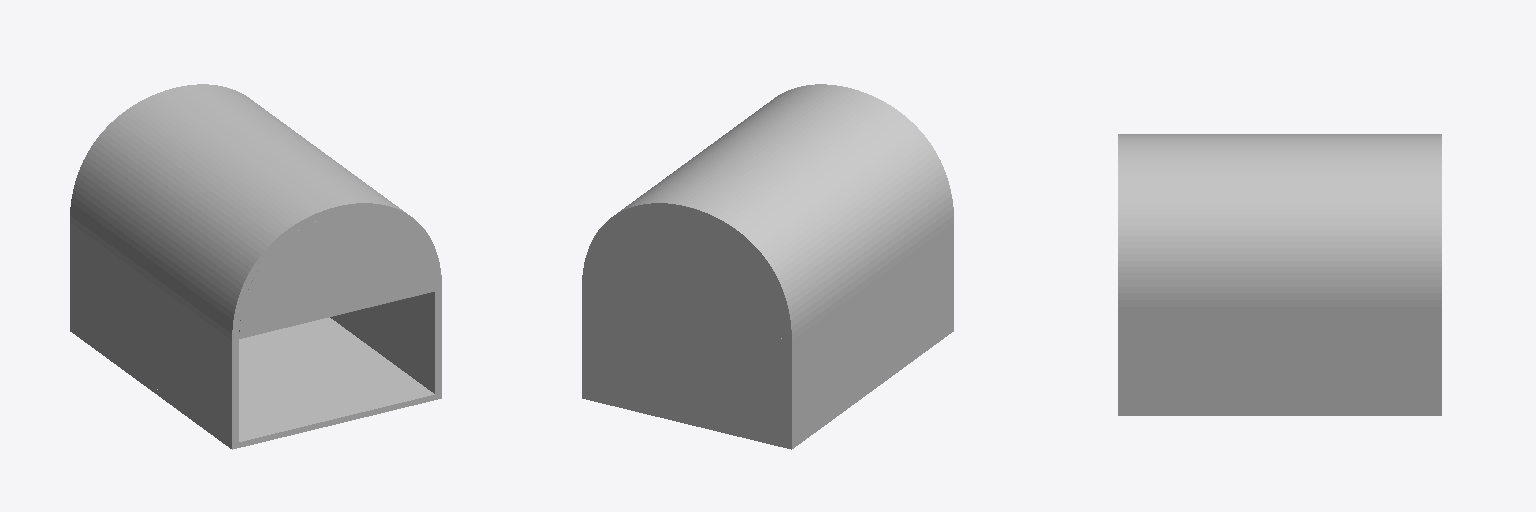
The picture shows the model from 3 angles: view 1: azimuth 30°, elevation 25°; view 2: azimuth 150°, elevation 25°; view 3: azimuth 270°, elevation 25°; orthographic projection.
Visible parts, largest first — view 1: object_3, object_4, object_7, object_1, object_6; view 2: object_3, object_5, object_4, object_2, object_7; view 3: object_3, object_6, object_7, object_5.
Part boxes in pixels (x1,y1,x2,y2): object_3: (70,84,441,340); object_4: (74,226,238,443); object_7: (70,317,441,449); object_1: (239,211,434,338); object_6: (330,290,441,393); object_3: (582,84,953,340); object_5: (582,290,795,443); object_4: (796,223,953,440); object_2: (589,211,784,338); object_7: (582,326,953,449); object_3: (1118,134,1441,306); object_6: (1118,307,1433,409); object_7: (1118,410,1441,415); object_5: (1434,307,1441,409).
Size of the model in its own units: 7.97 by 7.88 by 10.66.